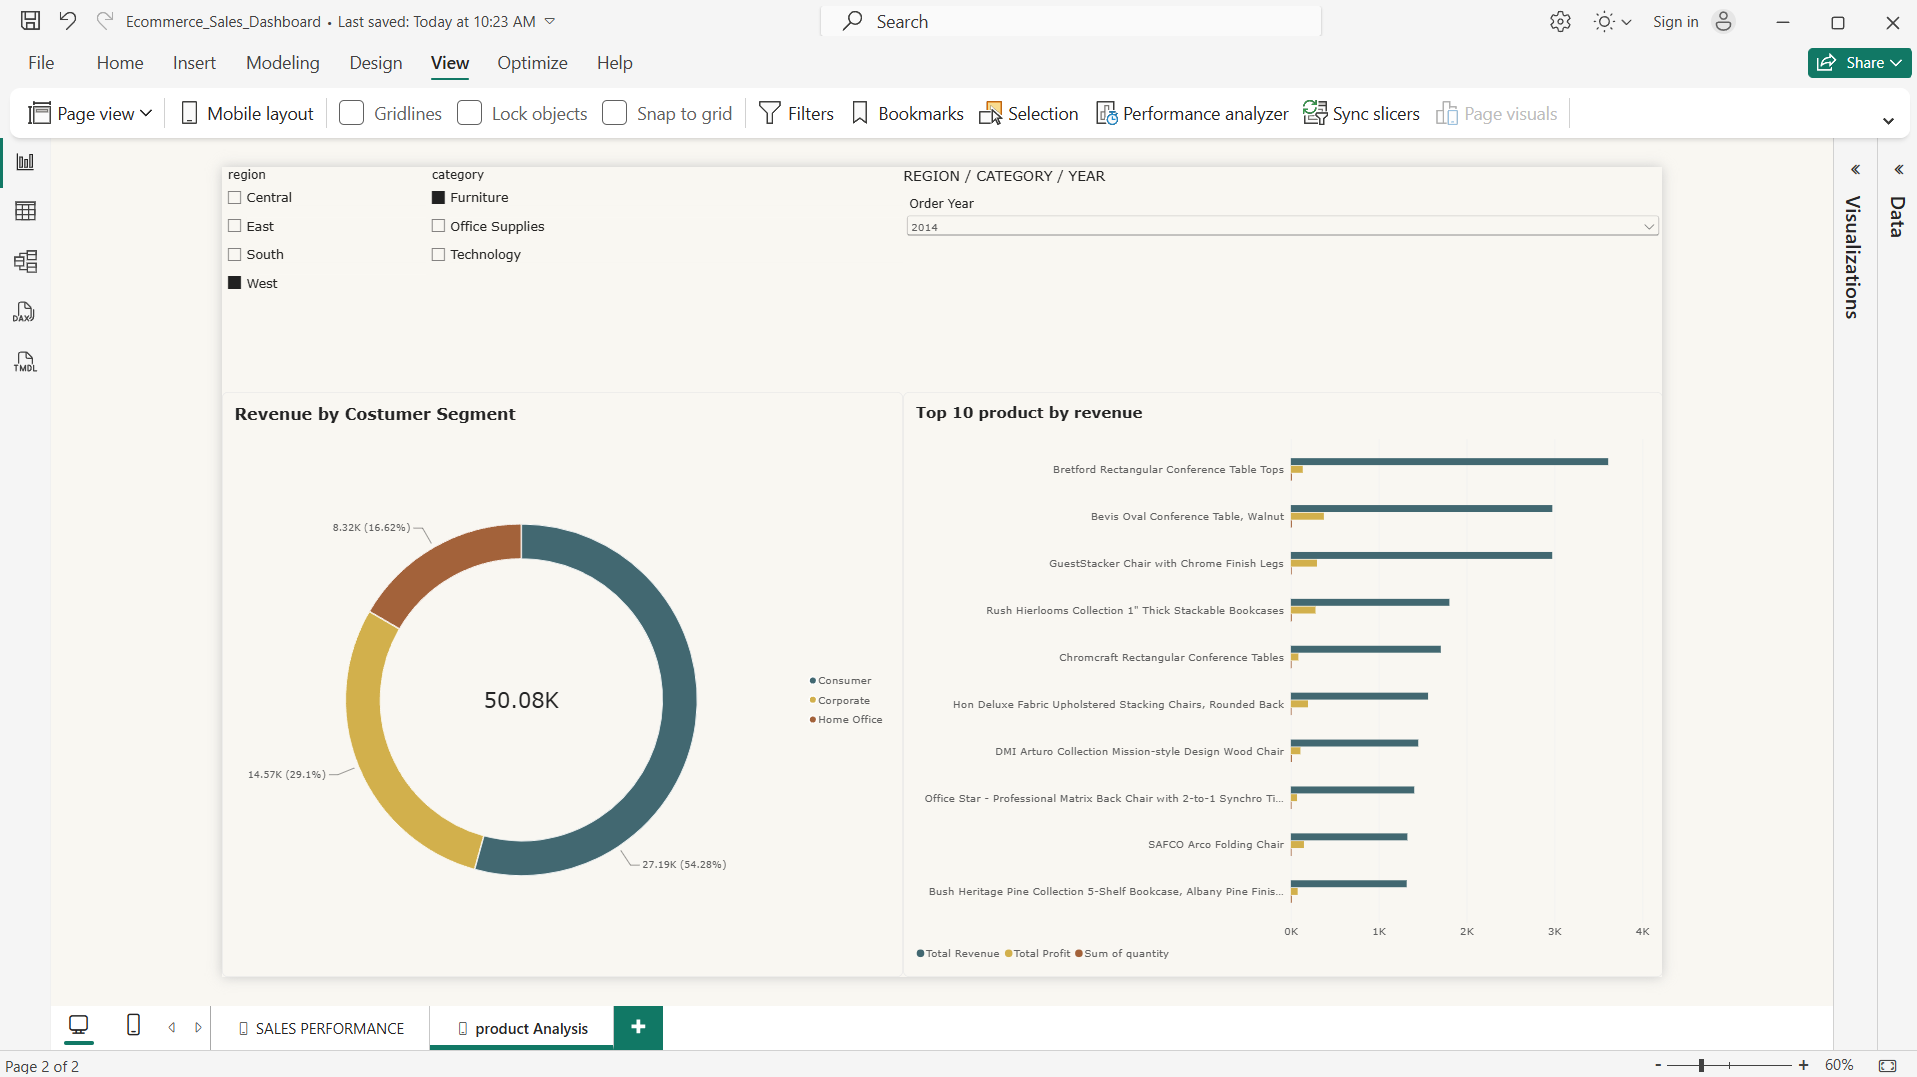

The dashboard page shown, as its layout file describes it:
{"tool":"powerbi","page":{"name":"product Analysis","canvas":[1920,1080],"ordinal":1},"visuals":[{"type":"clusteredBarChart","title":"Top 10 product by revenue","fields":{"Category":["public superstore_sales.product_name"],"Y":["public superstore_sales.Total Revenue","public superstore_sales.Total Profit","Sum(public superstore_sales.quantity)"]},"box":[907.7,300.5,1012.7,780.1],"z":0},{"type":"donutChart","title":"Revenue by Costumer Segment","fields":{"Category":["public superstore_sales.segment"],"Y":["public superstore_sales.Total Revenue"]},"box":[0,300.5,907.7,780.1],"z":1},{"type":"slicer","fields":{"Values":["public superstore_sales.region"]},"box":[0,0,271.7,300.5],"z":2},{"type":"slicer","fields":{"Values":["public superstore_sales.category"]},"box":[271.7,0,636,300.5],"z":3},{"type":"slicer","title":"REGION / CATEGORY / YEAR","fields":{"Values":["public superstore_sales.Order Year"]},"box":[907.7,0,1012.7,300.5],"z":4}]}

Visuals, with their boxes on the page's 1920x1080 design canvas (x1, y1, x2, y2). These are canvas units, not pixel positions in the 1917x1077 screenshot, which may show the page scaled, cropped or inside an application window:
"Top 10 product by revenue" clusteredBarChart: rect(908, 300, 1920, 1081)
"Revenue by Costumer Segment" donutChart: rect(0, 300, 908, 1081)
slicer - public superstore_sales.region: rect(0, 0, 272, 300)
slicer - public superstore_sales.category: rect(272, 0, 908, 300)
"REGION / CATEGORY / YEAR" slicer: rect(908, 0, 1920, 300)
